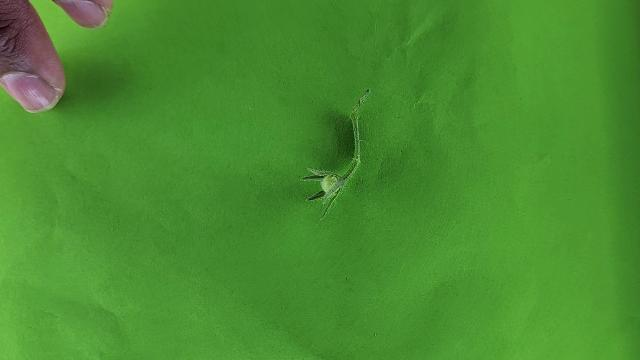Fruit Bud: (300, 170, 344, 205)
